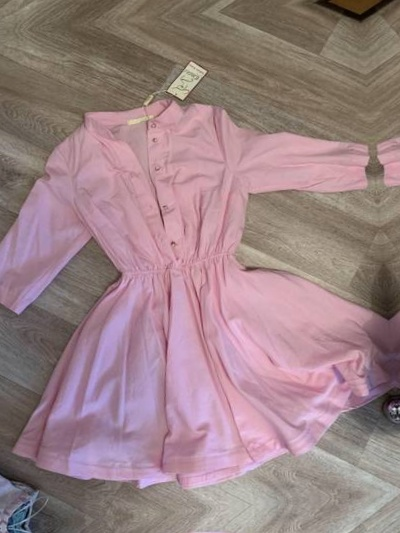Dress: (0, 67, 400, 498), (365, 29, 400, 461), (10, 521, 400, 533)
